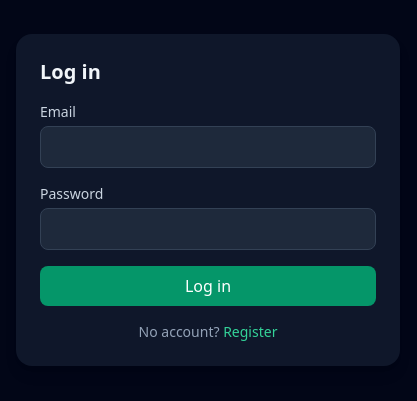
Test: LoginPage › shows an error message on failed login
Type "patrick@example.com" into the field labelled "Email".
click(208, 147); type("patrick@example.com")  # box [40,126,376,168]
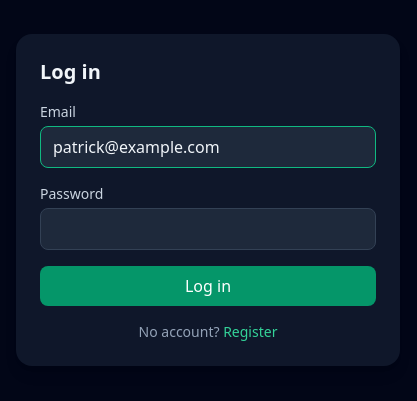
Type "wrong-password" into the password field labelled "Password".
click(208, 229); type("wrong-password")  # box [40,208,376,250]
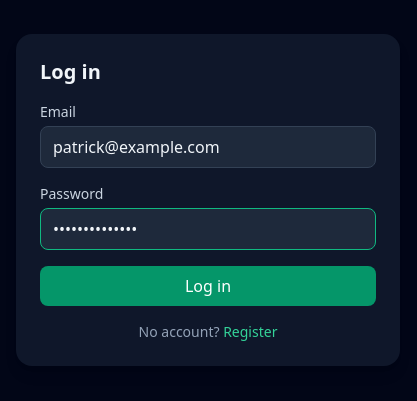
Click the button "Log in".
click(208, 286)  # box [40,266,376,306]
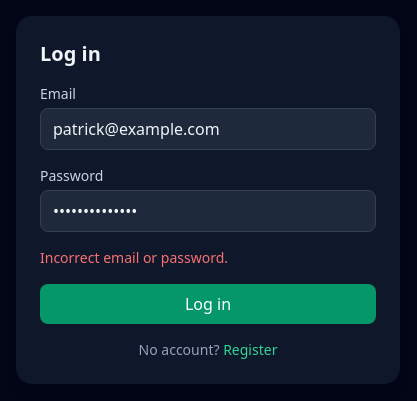
Expected: the message shows "Incorrect email or password", [40,248,228,267]
